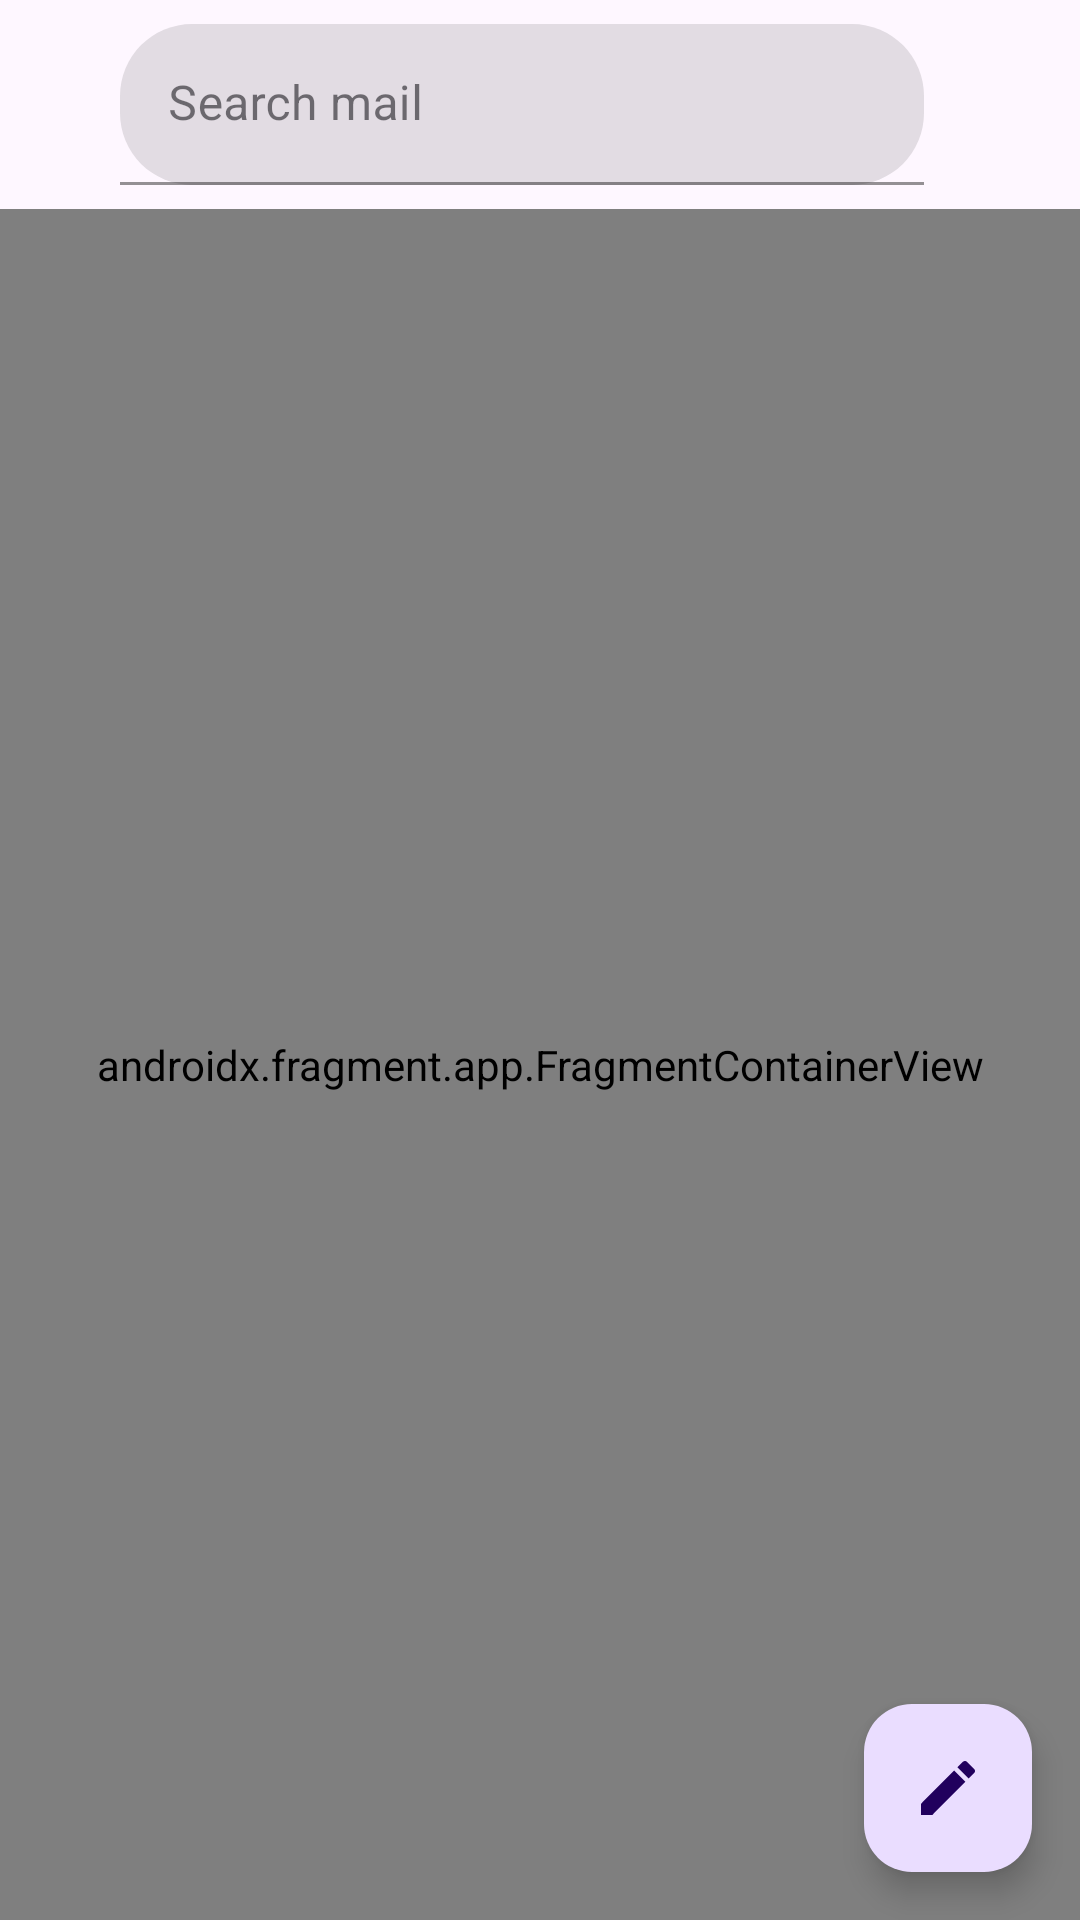

Screen size 1080px x 1920px. Icon name, then its box in pixels as (x1,y1,x2,y2):
Compose: (864,1704,1032,1872)
